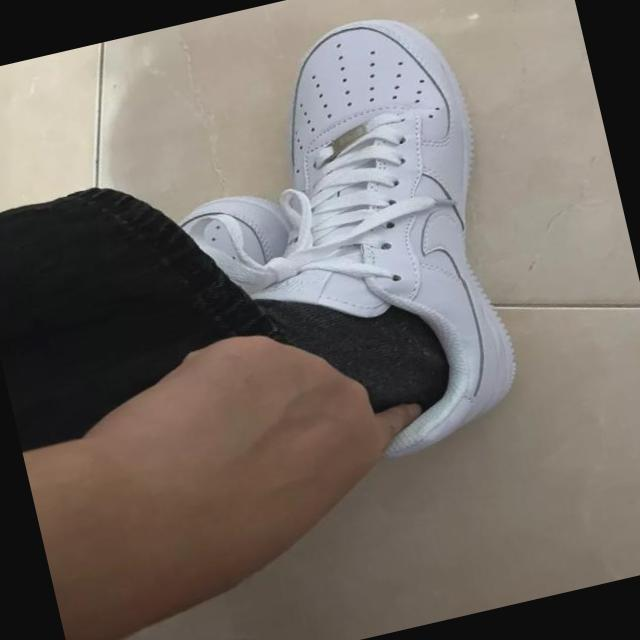nike_fake_airforce: (173, 0, 550, 500)
